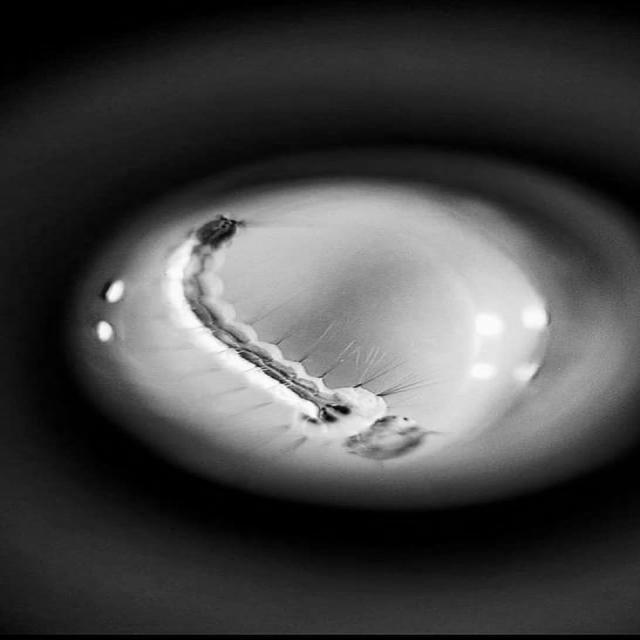larvas: (175, 210, 410, 458)
